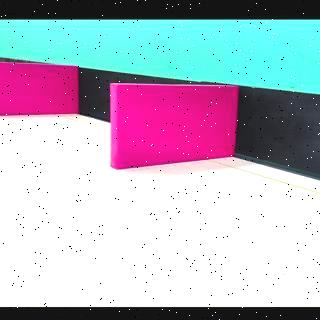xparking: (114, 87, 236, 169), (1, 67, 77, 115)
